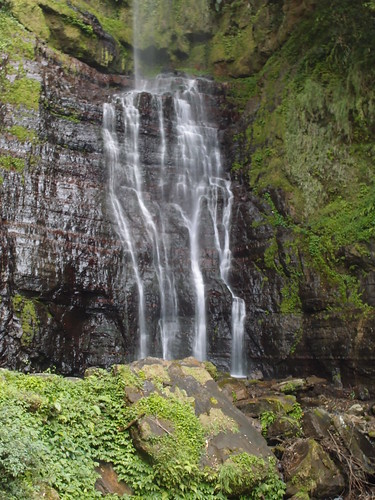wufengciWaterfall: (106, 56, 266, 396)
